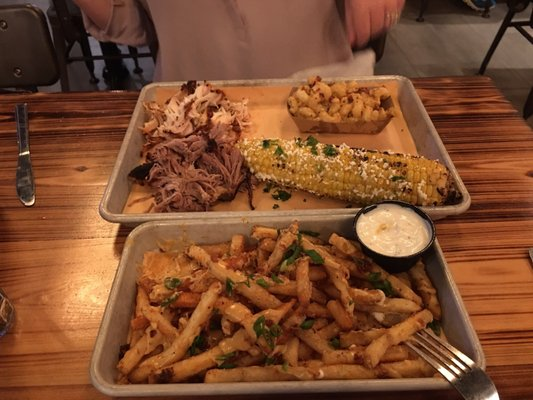salad: (15, 103, 35, 207)
sandwich: (15, 104, 35, 207)
sushi: (88, 218, 505, 399), (354, 202, 434, 274)
